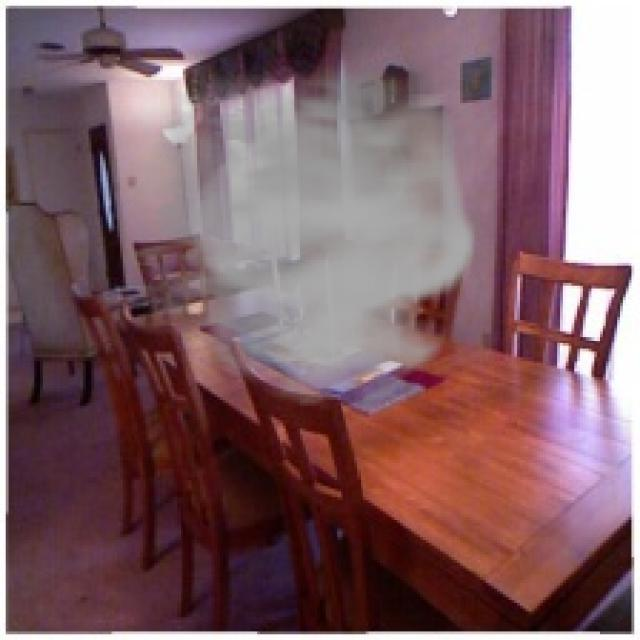smoke: (86, 46, 483, 406)
